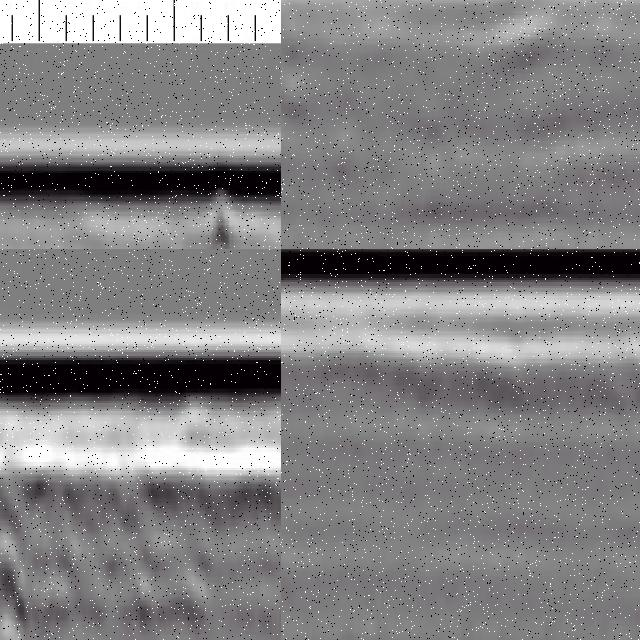loose: (1, 493, 48, 640)
